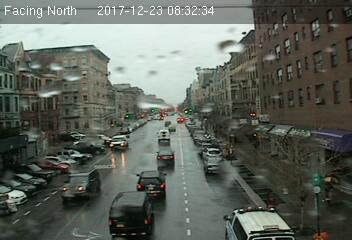car: (106, 191, 157, 236), (59, 169, 101, 200), (135, 170, 168, 199), (203, 156, 226, 175), (155, 148, 175, 166)
police: (222, 207, 298, 240)
truck: (109, 133, 127, 150), (157, 129, 171, 141)
